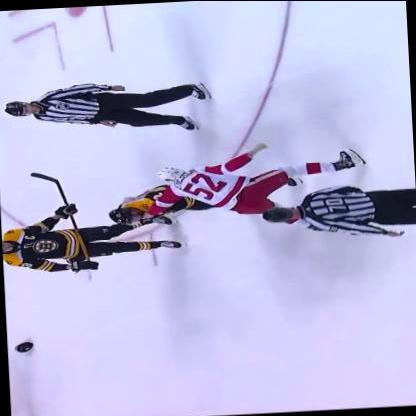non-Voilence: (2, 76, 213, 140)
voilence: (104, 142, 303, 224)
